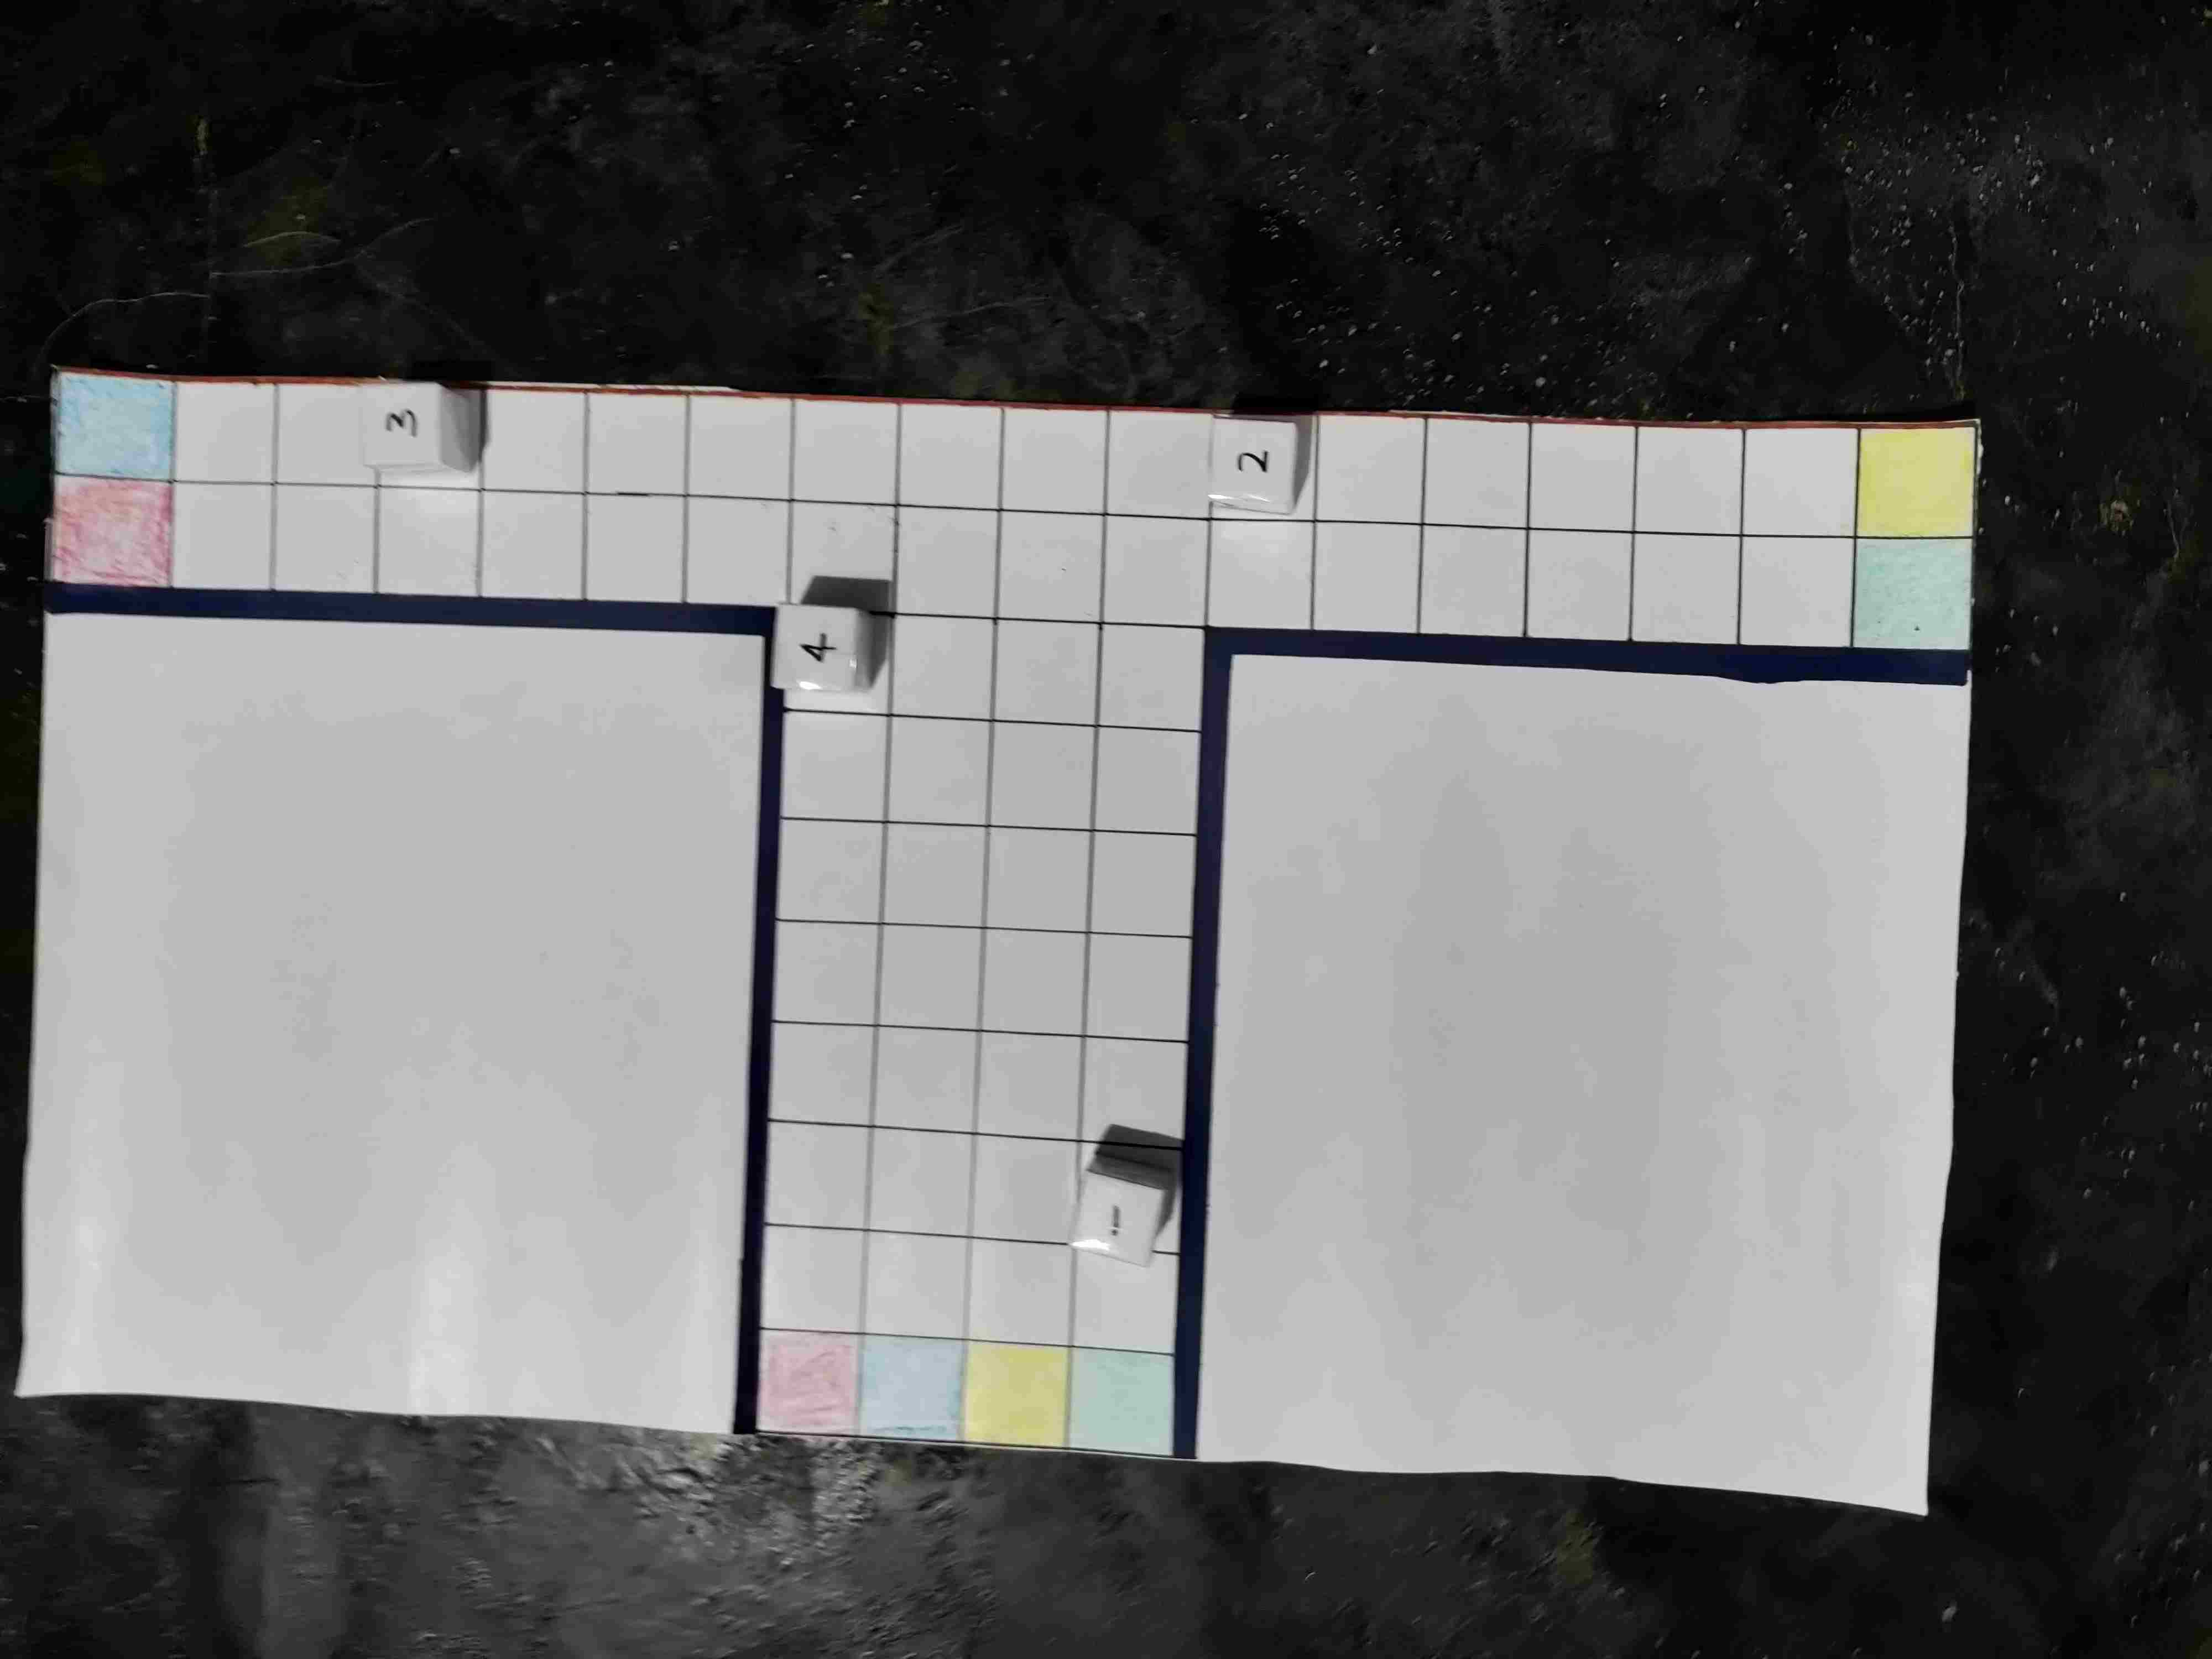arena: (38, 375, 1979, 1467)
bot: (1069, 1169, 1162, 1262), (1216, 418, 1299, 509), (777, 599, 857, 690), (364, 378, 441, 467)
